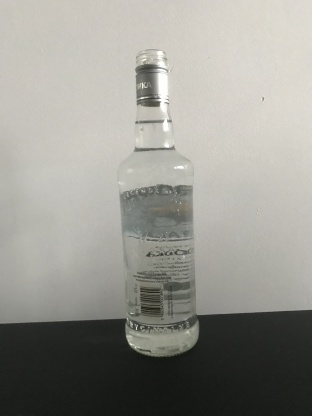nakretka: (134, 46, 170, 107)
